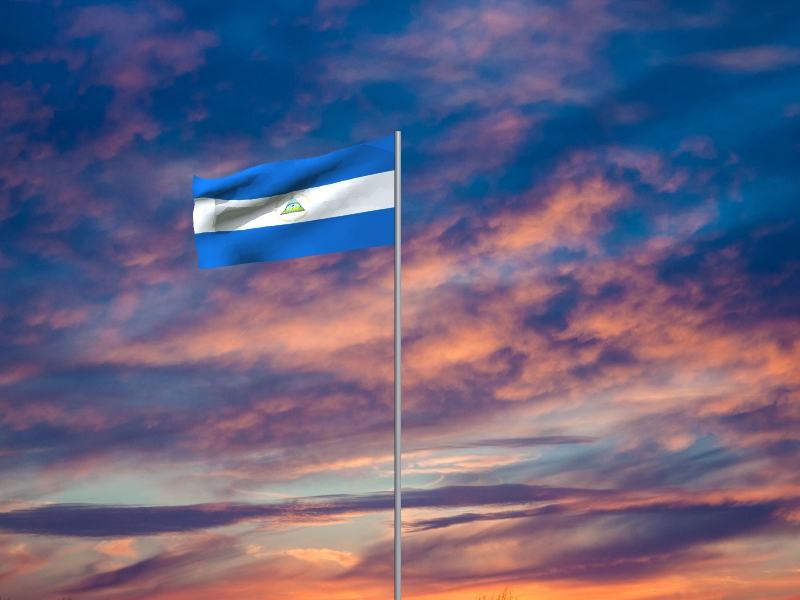ni: (192, 133, 395, 271)
